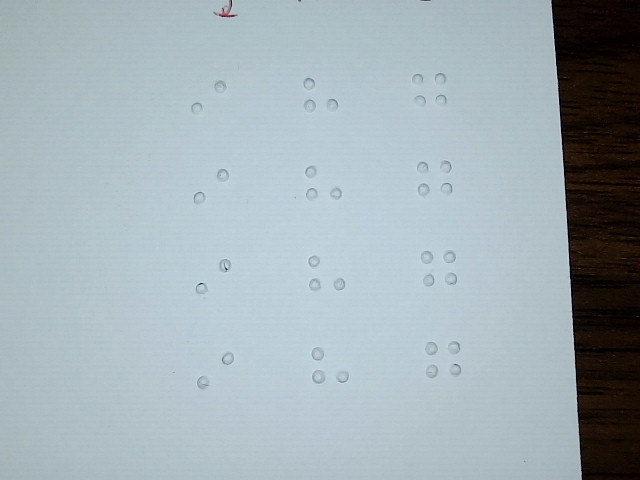G: (411, 61, 450, 126), (416, 149, 455, 214), (420, 238, 459, 303), (424, 330, 463, 395)
H: (308, 247, 347, 313), (300, 67, 339, 132), (304, 154, 343, 219), (311, 338, 350, 403)
I: (189, 69, 228, 134), (191, 159, 230, 224), (197, 342, 236, 407)
